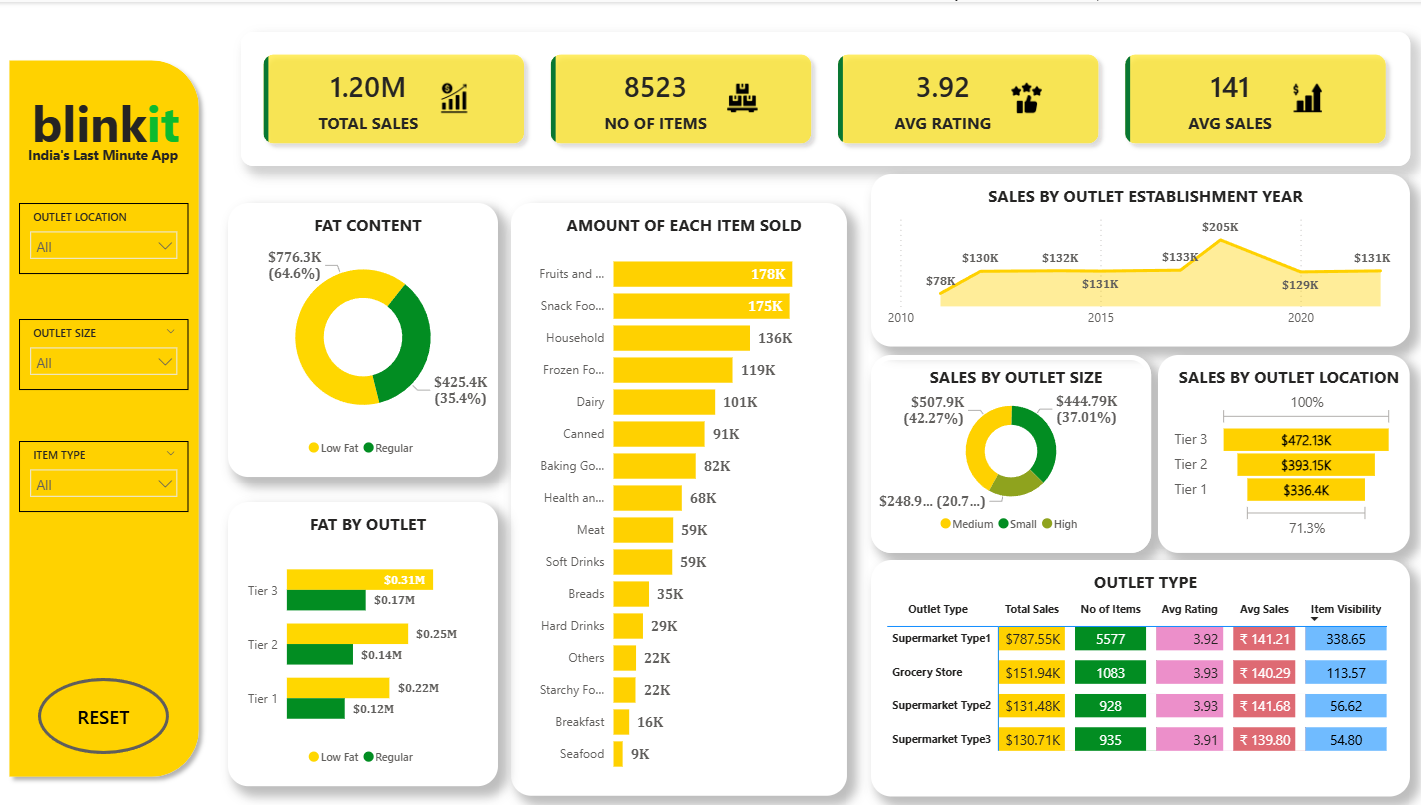

Layout of this report page (visuals, bound fields, positions):
{"tool":"powerbi","page":{"name":"Page 1","canvas":[1400,800],"ordinal":0},"visuals":[{"type":"shape","box":[0,48.3,204.9,724.1],"z":0},{"type":"textbox","box":[26.6,80.8,167.5,88.7],"z":1000},{"type":"textbox","box":[22.7,136.9,174.4,32.5],"z":2000},{"type":"cardVisual","fields":{"Data":["BlinkIT Grocery Data.Total Sales","BlinkIT Grocery Data.No of Items","BlinkIT Grocery Data.Avg Rating","BlinkIT Grocery Data.Average Sales"]},"box":[237.4,29.6,1151.7,132],"z":3000},{"type":"donutChart","title":"FAT CONTENT","fields":{"Y":["BlinkIT Grocery Data.Total Sales"],"Category":["BlinkIT Grocery Data.Item Fat Content"]},"box":[224.6,198,266,270],"z":4000},{"type":"barChart","title":"AMOUNT OF EACH ITEM SOLD","fields":{"Category":["BlinkIT Grocery Data.Item Type"],"Y":["Sum(BlinkIT Grocery Data.Sales)"]},"box":[503.4,198,331,584.2],"z":5000},{"type":"clusteredBarChart","title":"FAT BY OUTLET","fields":{"Category":["BlinkIT Grocery Data.Outlet Location Type"],"Series":["BlinkIT Grocery Data.Item Fat Content"],"Y":["BlinkIT Grocery Data.Total Sales"]},"box":[224.6,492.6,266,279.8],"z":6000},{"type":"lineChart","title":"SALES BY OUTLET ESTABLISHMENT YEAR","fields":{"Category":["BlinkIT Grocery Data.Outlet Establishment Year"],"Y":["BlinkIT Grocery Data.Total Sales"]},"box":[858.1,169.5,531,170.4],"z":7000},{"type":"donutChart","title":"SALES BY OUTLET SIZE","fields":{"Category":["BlinkIT Grocery Data.Outlet Size"],"Y":["BlinkIT Grocery Data.Total Sales"]},"box":[858.1,347.8,275.9,195.1],"z":8000},{"type":"funnel","title":"SALES BY OUTLET LOCATION","fields":{"Y":["BlinkIT Grocery Data.Total Sales"],"Category":["BlinkIT Grocery Data.Outlet Location Type"]},"box":[1140.9,347.8,248.3,195.1],"z":9000},{"type":"pivotTable","title":"OUTLET TYPE","fields":{"Rows":["BlinkIT Grocery Data.Outlet Type"],"Values":["BlinkIT Grocery Data.Total Sales","BlinkIT Grocery Data.No of Items","BlinkIT Grocery Data.Avg Rating","BlinkIT Grocery Data.Average Sales","Sum(BlinkIT Grocery Data.Item Visibility)"]},"box":[858.1,549.8,531,232.5],"z":10000},{"type":"slicer","fields":{"Values":["BlinkIT Grocery Data.Outlet Location Type"]},"box":[18.7,198,167.5,70],"z":11000},{"type":"slicer","title":"OUTLET SIZE","fields":{"Values":["BlinkIT Grocery Data.Outlet Size"]},"box":[18.7,312.3,167.5,70],"z":12000},{"type":"slicer","title":"OUTLET SIZE","fields":{"Values":["BlinkIT Grocery Data.Item Type"]},"box":[18.7,432.5,167.5,70],"z":13000},{"type":"actionButton","title":"RESET","box":[37.4,666,129.1,74.9],"z":13001}]}

Visuals, with their boxes in screenshot pixels (x1, y1, x2, y2), scaled from the page's 1400x800 canvas onto the 1421x805 screenshot:
shape: (x1=0, y1=49, x2=208, y2=777)
textbox: (x1=27, y1=81, x2=197, y2=171)
textbox: (x1=23, y1=138, x2=200, y2=170)
cardVisual - BlinkIT Grocery Data.Total Sales x BlinkIT Grocery Data.No of Items: (x1=241, y1=30, x2=1410, y2=163)
"FAT CONTENT" donutChart: (x1=228, y1=199, x2=498, y2=471)
"AMOUNT OF EACH ITEM SOLD" barChart: (x1=511, y1=199, x2=847, y2=787)
"FAT BY OUTLET" clusteredBarChart: (x1=228, y1=496, x2=498, y2=777)
"SALES BY OUTLET ESTABLISHMENT YEAR" lineChart: (x1=871, y1=171, x2=1410, y2=342)
"SALES BY OUTLET SIZE" donutChart: (x1=871, y1=350, x2=1151, y2=546)
"SALES BY OUTLET LOCATION" funnel: (x1=1158, y1=350, x2=1410, y2=546)
"OUTLET TYPE" pivotTable: (x1=871, y1=553, x2=1410, y2=787)
slicer - BlinkIT Grocery Data.Outlet Location Type: (x1=19, y1=199, x2=189, y2=270)
"OUTLET SIZE" slicer: (x1=19, y1=314, x2=189, y2=385)
"OUTLET SIZE" slicer: (x1=19, y1=435, x2=189, y2=506)
"RESET" actionButton: (x1=38, y1=670, x2=169, y2=746)
